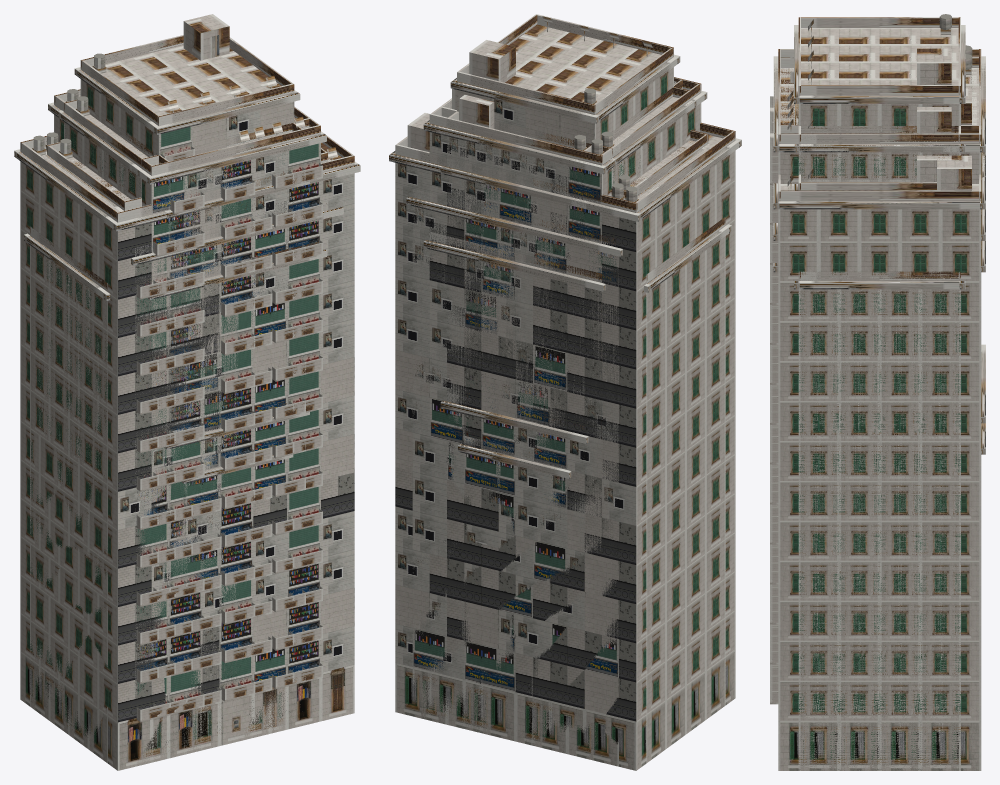
3 views of the same model, side by side, from view 1: azimuth 30°, elevation 25°; view 2: azimuth 150°, elevation 25°; view 3: azimuth 270°, elevation 25° (orthographic). The views are drawn at different scales.
Visible parts, largest first — view 1: Khedivial_7x5_f13_v0, Khedivial_5x5_f11_v1, Khedivial_4x5_f13_v0, Khedivial_7x4_f11_v0, Khedivial_4x4_f15_v1, Khedivial_5x5_f14_v0, Khedivial_6x5_f12_v1, Khedivial_4x5_f14_v0, Khedivial_5x4_f14_v1, Khedivial_4x5_f7_v1, Khedivial_3x5_f6_v0, Khedivial_6x4_f13_v0; view 2: Khedivial_7x5_f13_v0, Khedivial_5x5_f11_v1, Khedivial_4x5_f13_v0, Khedivial_7x4_f11_v0, Khedivial_6x5_f12_v1, Khedivial_5x5_f14_v0, Khedivial_4x4_f15_v1, Khedivial_4x5_f14_v0, Khedivial_5x4_f14_v1, Khedivial_6x4_f13_v0, Khedivial_4x5_f7_v1, Khedivial_3x5_f6_v0; view 3: Khedivial_7x4_f11_v0, Khedivial_7x5_f13_v0, Khedivial_4x4_f15_v1, Khedivial_5x4_f14_v1, Khedivial_5x5_f14_v0, Khedivial_4x5_f14_v0, Khedivial_5x5_f11_v1, Khedivial_6x4_f13_v0, Khedivial_4x5_f7_v1, Khedivial_4x5_f13_v0.
Part boxes in pixels (left/top/right/bottom): Khedivial_7x5_f13_v0: left=14, top=132, right=360, bottom=770; Khedivial_5x5_f11_v1: left=148, top=241, right=326, bottom=762; Khedivial_4x5_f13_v0: left=165, top=170, right=309, bottom=758; Khedivial_7x4_f11_v0: left=24, top=226, right=110, bottom=763; Khedivial_4x4_f15_v1: left=74, top=14, right=300, bottom=161; Khedivial_5x5_f14_v0: left=48, top=89, right=326, bottom=282; Khedivial_6x5_f12_v1: left=131, top=203, right=343, bottom=766; Khedivial_4x5_f14_v0: left=78, top=89, right=306, bottom=419; Khedivial_5x4_f14_v1: left=57, top=96, right=310, bottom=199; Khedivial_4x5_f7_v1: left=164, top=403, right=309, bottom=689; Khedivial_3x5_f6_v0: left=182, top=454, right=293, bottom=706; Khedivial_6x4_f13_v0: left=43, top=138, right=330, bottom=211; Khedivial_7x5_f13_v0: left=389, top=113, right=741, bottom=770; Khedivial_5x5_f11_v1: left=423, top=232, right=605, bottom=759; Khedivial_4x5_f13_v0: left=440, top=158, right=588, bottom=753; Khedivial_7x4_f11_v0: left=644, top=217, right=731, bottom=763; Khedivial_6x5_f12_v1: left=406, top=189, right=622, bottom=766; Khedivial_5x5_f14_v0: left=423, top=78, right=707, bottom=282; Khedivial_4x4_f15_v1: left=450, top=14, right=680, bottom=148; Khedivial_4x5_f14_v0: left=441, top=77, right=683, bottom=199; Khedivial_5x4_f14_v1: left=440, top=86, right=696, bottom=187; Khedivial_6x4_f13_v0: left=611, top=130, right=708, bottom=199; Khedivial_4x5_f7_v1: left=440, top=392, right=588, bottom=443; Khedivial_3x5_f6_v0: left=458, top=436, right=571, bottom=478; Khedivial_7x4_f11_v0: left=794, top=271, right=965, bottom=770; Khedivial_7x5_f13_v0: left=773, top=155, right=985, bottom=770; Khedivial_4x4_f15_v1: left=790, top=14, right=965, bottom=133; Khedivial_5x4_f14_v1: left=794, top=104, right=965, bottom=182; Khedivial_5x5_f14_v0: left=770, top=45, right=985, bottom=264; Khedivial_4x5_f14_v0: left=770, top=54, right=985, bottom=411; Khedivial_5x5_f11_v1: left=770, top=241, right=985, bottom=704; Khedivial_6x4_f13_v0: left=794, top=155, right=951, bottom=190; Khedivial_4x5_f7_v1: left=770, top=344, right=985, bottom=690; Khedivial_4x5_f13_v0: left=770, top=152, right=985, bottom=667.
Bounding box in the file's own units: 25.3 × 64.5 × 18.6.
1 material, 1 textured.
